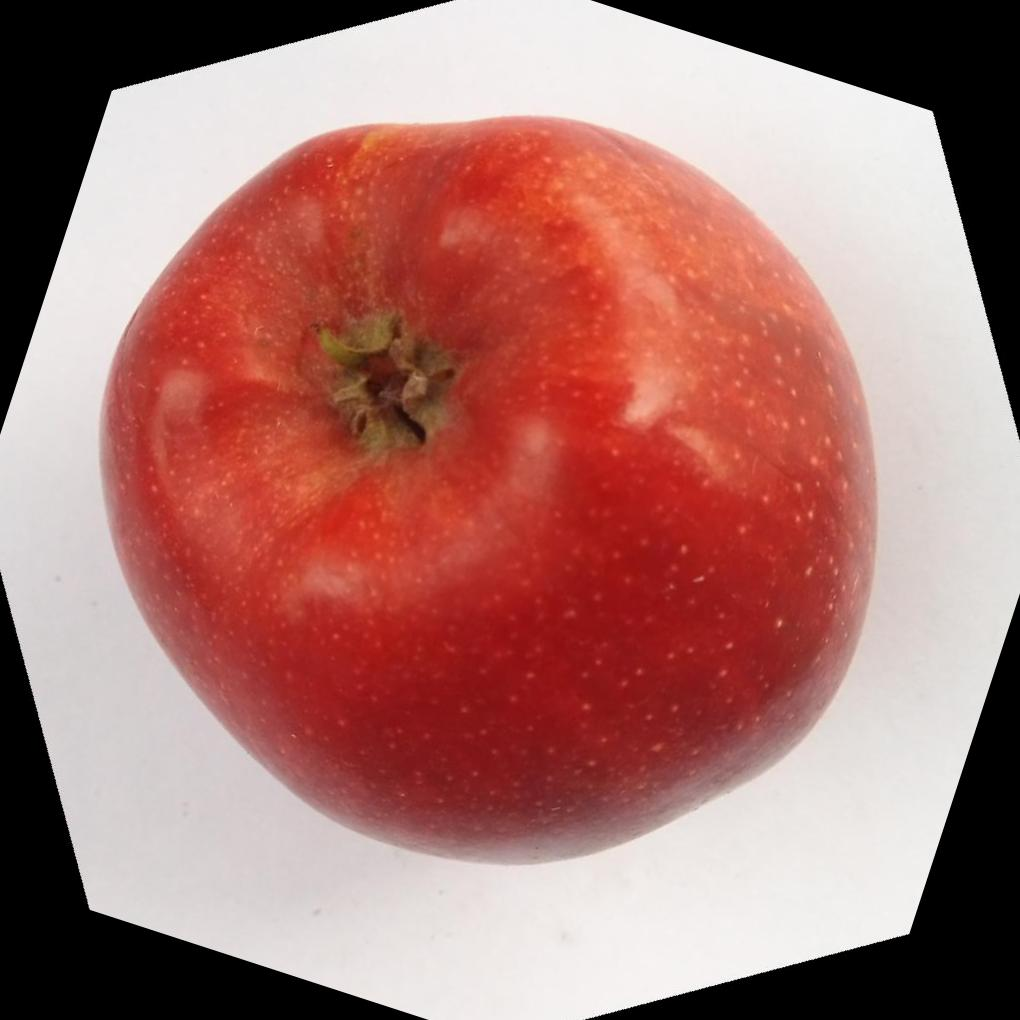FreshGuava: (92, 106, 882, 869)
